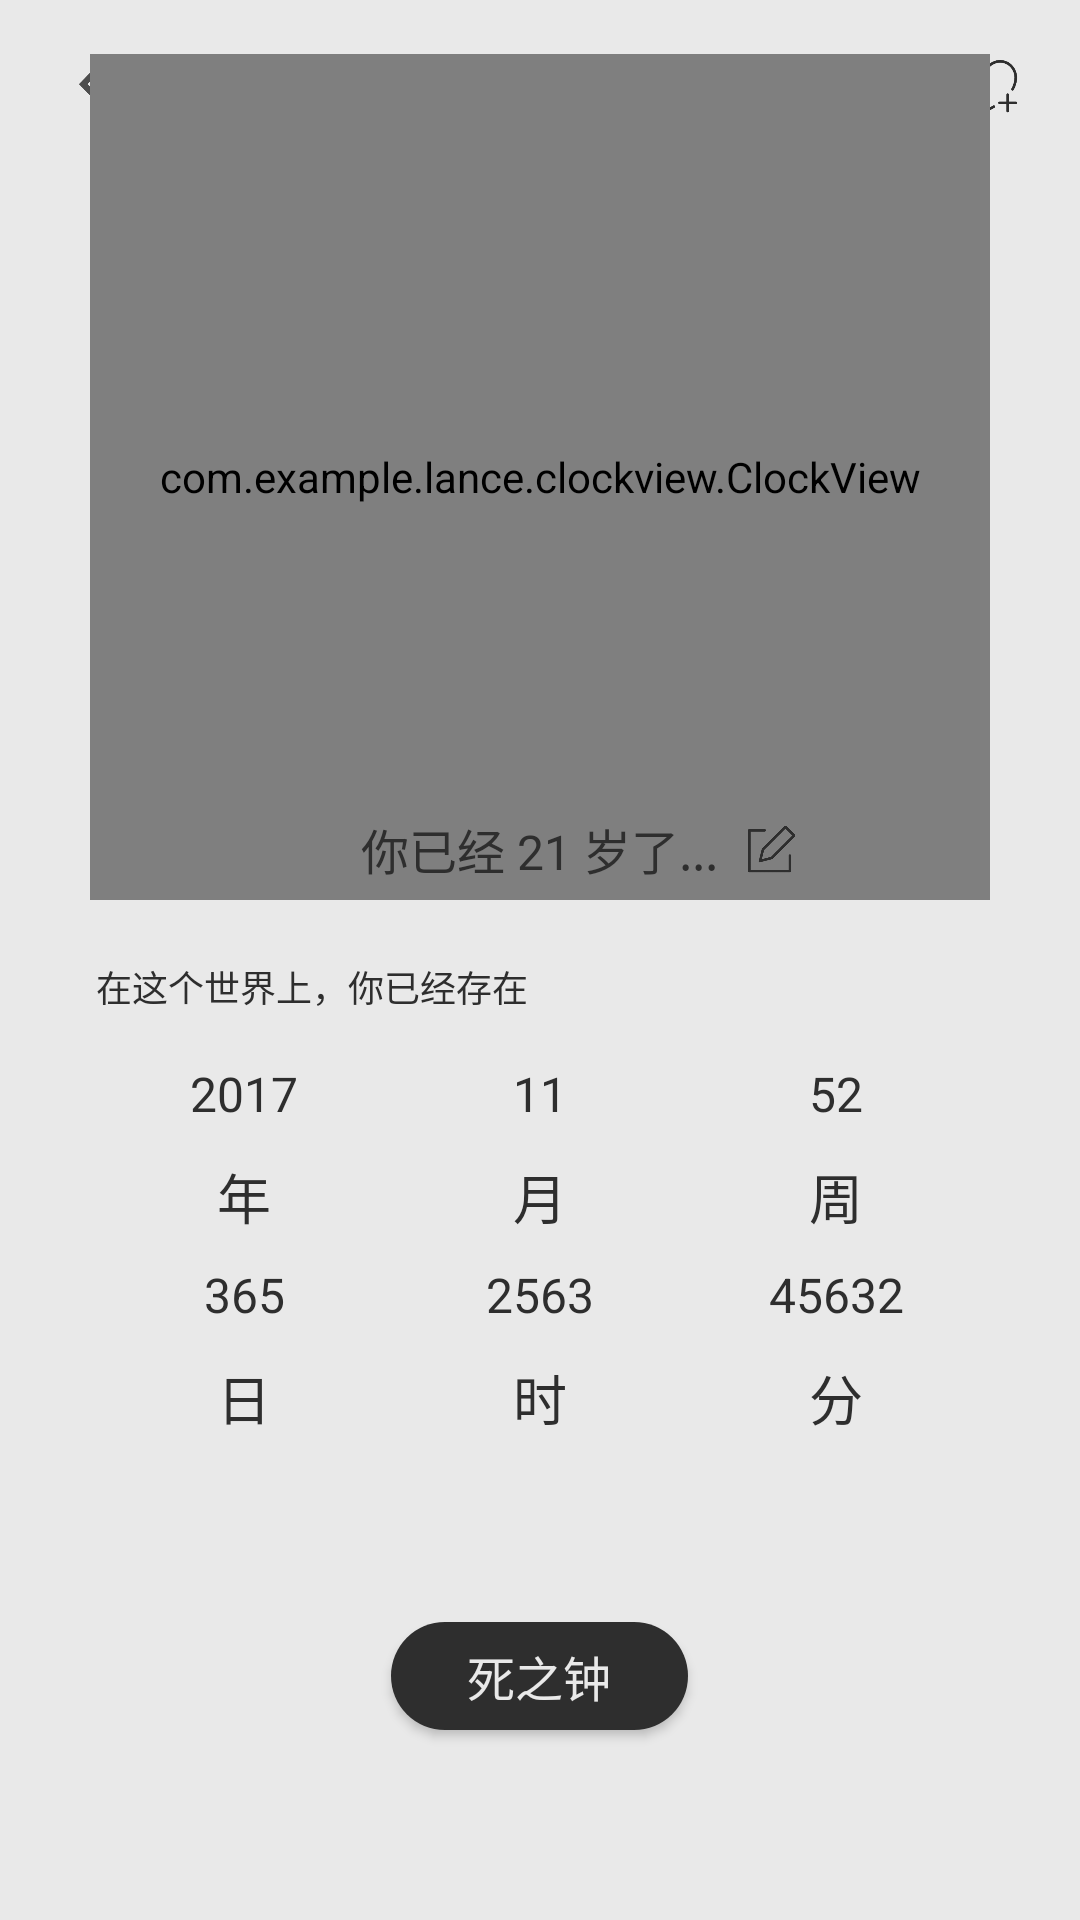

Where icons sit on this 1080×1920 app screen, as (x1, y1, x2, y2):
dead edit: (748, 826, 795, 872)
